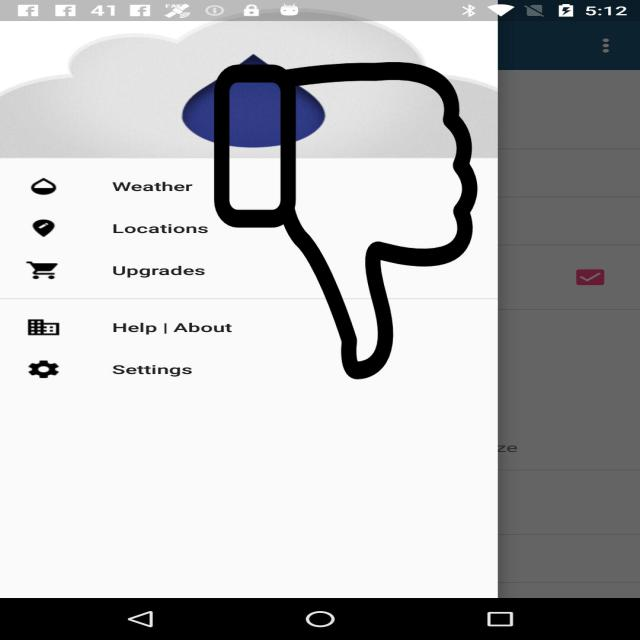obstruction: (210, 62, 482, 379)
